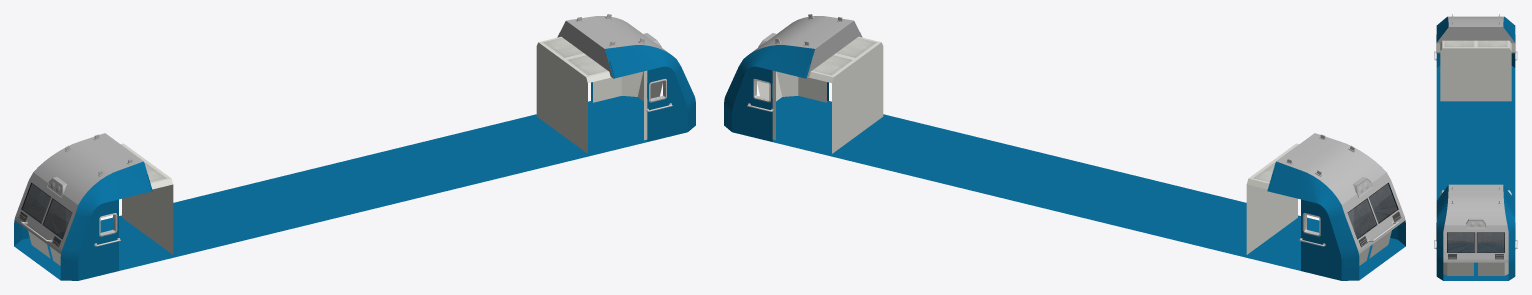
3 renders of one model, left to right at view 1: azimuth 30°, elevation 25°; view 2: azimuth 150°, elevation 25°; view 3: azimuth 270°, elevation 25°, orthographic. The views are drawn at different scales.
Parts seen in each view (by area): view 1: touming; view 2: touming; view 3: touming.
Part boxes in pixels (box(x1,y1,x2,y2)): touming: box(14, 14, 695, 280); touming: box(724, 14, 1405, 280); touming: box(1434, 14, 1517, 280).
Size of the model in its own units: 57.29 by 8.37 by 9.24.
Materials: 10 (7 with a texture image).
